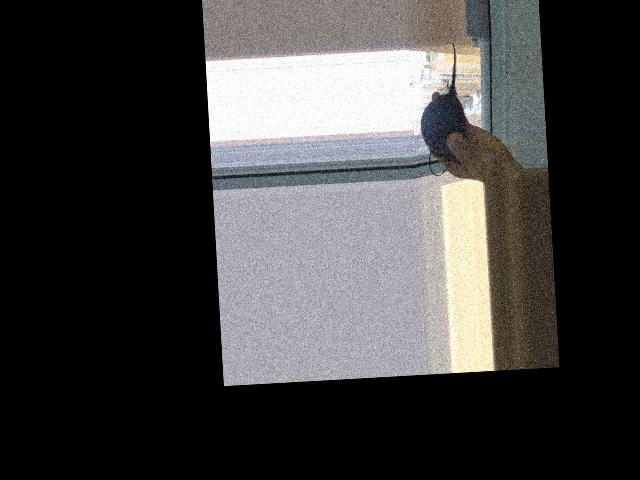beet: (416, 42, 468, 176)
